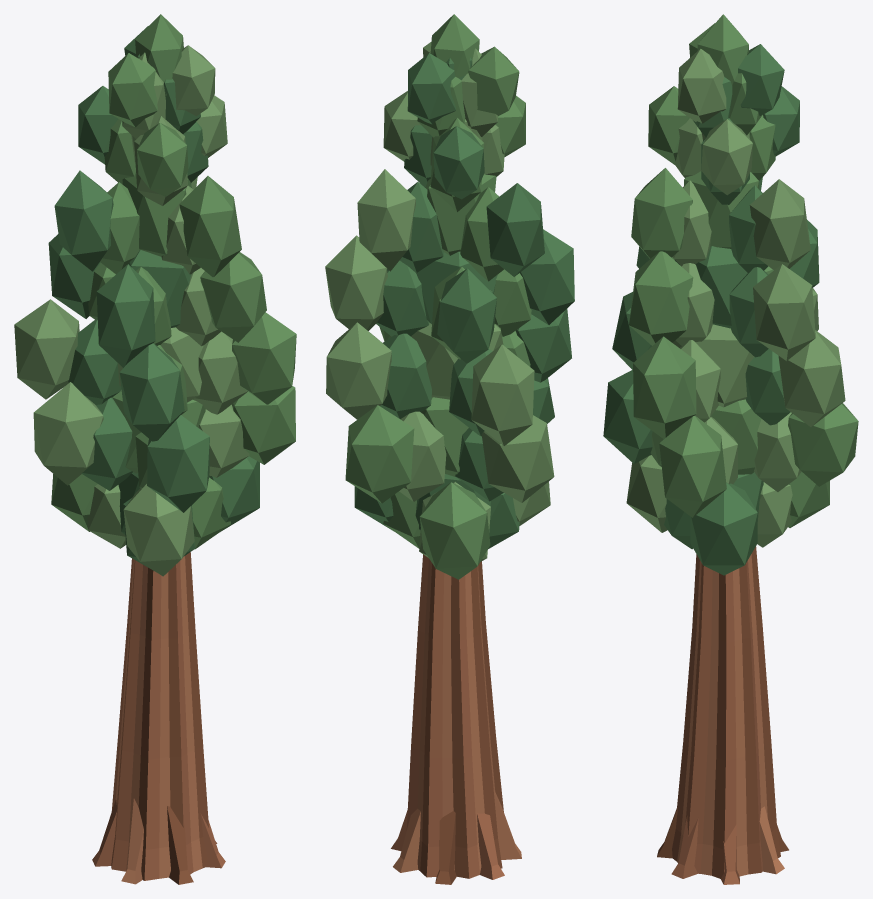
The model's file is sequoia.glb.
The picture shows the model from 3 angles, left to right: view 1: azimuth 30°, elevation 25°; view 2: azimuth 150°, elevation 25°; view 3: azimuth 270°, elevation 25°; orthographic projection.
Visible parts, largest first — view 1: Sequoia_Continuous_Fluted_Reddish_Trunk, Sequoia_Branch_Crown_04, Sequoia_Branch_Crown_07, Sequoia_Branch_Crown_11, Sequoia_Branch_Crown_05, Sequoia_Branch_Crown_08, Sequoia_Branch_Crown_02, Sequoia_Branch_Crown_15, Sequoia_Branch_Crown_09, Sequoia_Branch_Crown_17, Sequoia_Branch_Crown_12, Sequoia_Branch_Crown_06 (+35 smaller); view 2: Sequoia_Continuous_Fluted_Reddish_Trunk, Sequoia_Branch_Crown_03, Sequoia_Branch_Crown_01, Sequoia_Branch_Crown_07, Sequoia_Branch_Crown_10, Sequoia_Branch_Crown_13, Sequoia_Branch_Crown_14, Sequoia_Branch_Crown_16, Sequoia_Branch_Crown_17, Sequoia_Branch_Crown_04, Sequoia_Branch_Crown_11, Sequoia_Inner_Foliage_10 (+34 smaller); view 3: Sequoia_Continuous_Fluted_Reddish_Trunk, Sequoia_Branch_Crown_09, Sequoia_Branch_Crown_06, Sequoia_Branch_Crown_13, Sequoia_Branch_Crown_00, Sequoia_Branch_Crown_12, Sequoia_Branch_Crown_10, Sequoia_Branch_Crown_16, Sequoia_Branch_Crown_03, Sequoia_Branch_Crown_15, Sequoia_Branch_Crown_18, Sequoia_Branch_Crown_05 (+32 smaller).
Part boxes in pixels (x1,y1,x2,y2): Sequoia_Continuous_Fluted_Reddish_Trunk: (111,552,208,880); Sequoia_Branch_Crown_04: (33,382,103,485); Sequoia_Branch_Crown_07: (14,299,79,399); Sequoia_Branch_Crown_11: (96,264,155,367); Sequoia_Branch_Crown_05: (147,415,209,512); Sequoia_Branch_Crown_08: (119,343,184,441); Sequoia_Branch_Crown_02: (123,484,194,576); Sequoia_Branch_Crown_15: (179,176,241,276); Sequoia_Branch_Crown_09: (232,312,296,404); Sequoia_Branch_Crown_17: (54,170,113,271); Sequoia_Branch_Crown_12: (200,252,266,342); Sequoia_Branch_Crown_06: (232,386,295,464); Sequoia_Continuous_Fluted_Reddish_Trunk: (406,554,503,878); Sequoia_Branch_Crown_03: (345,405,414,503); Sequoia_Branch_Crown_01: (420,482,490,579); Sequoia_Branch_Crown_07: (471,344,534,445); Sequoia_Branch_Crown_10: (326,322,391,419); Sequoia_Branch_Crown_13: (325,235,387,330); Sequoia_Branch_Crown_14: (437,268,496,363); Sequoia_Branch_Crown_16: (357,169,415,271); Sequoia_Branch_Crown_17: (486,183,544,276); Sequoia_Branch_Crown_04: (481,415,554,502); Sequoia_Branch_Crown_11: (520,229,574,324); Sequoia_Inner_Foliage_10: (380,333,431,419); Sequoia_Continuous_Fluted_Reddish_Trunk: (672,546,780,878); Sequoia_Branch_Crown_09: (633,336,696,438); Sequoia_Branch_Crown_06: (659,415,726,517); Sequoia_Branch_Crown_13: (753,264,815,360); Sequoia_Branch_Crown_00: (690,482,757,575); Sequoia_Branch_Crown_12: (629,251,693,345); Sequoia_Branch_Crown_10: (778,330,845,426); Sequoia_Branch_Crown_16: (749,179,810,269); Sequoia_Branch_Crown_03: (788,403,858,486); Sequoia_Branch_Crown_15: (631,168,692,258); Sequoia_Branch_Crown_18: (701,119,752,195); Sequoia_Branch_Crown_05: (603,369,652,463).
Bounding box in the file's own units: 16.51 × 58.6 × 16.07.
